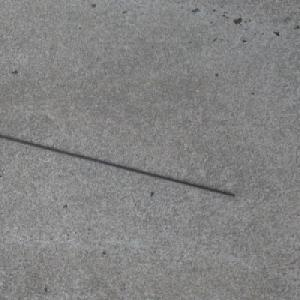LuggagePart: (0, 134, 235, 198)
